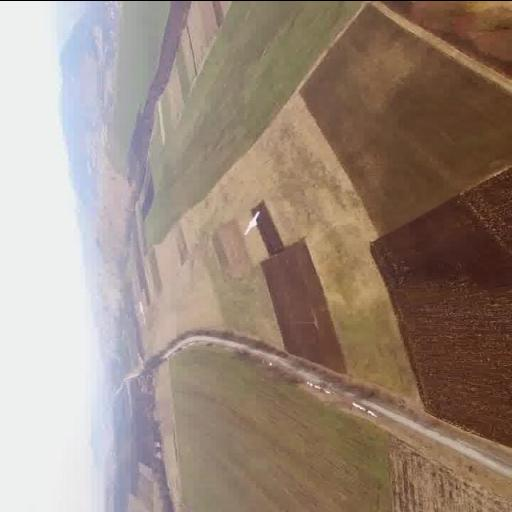uav: (232, 204, 276, 238)
